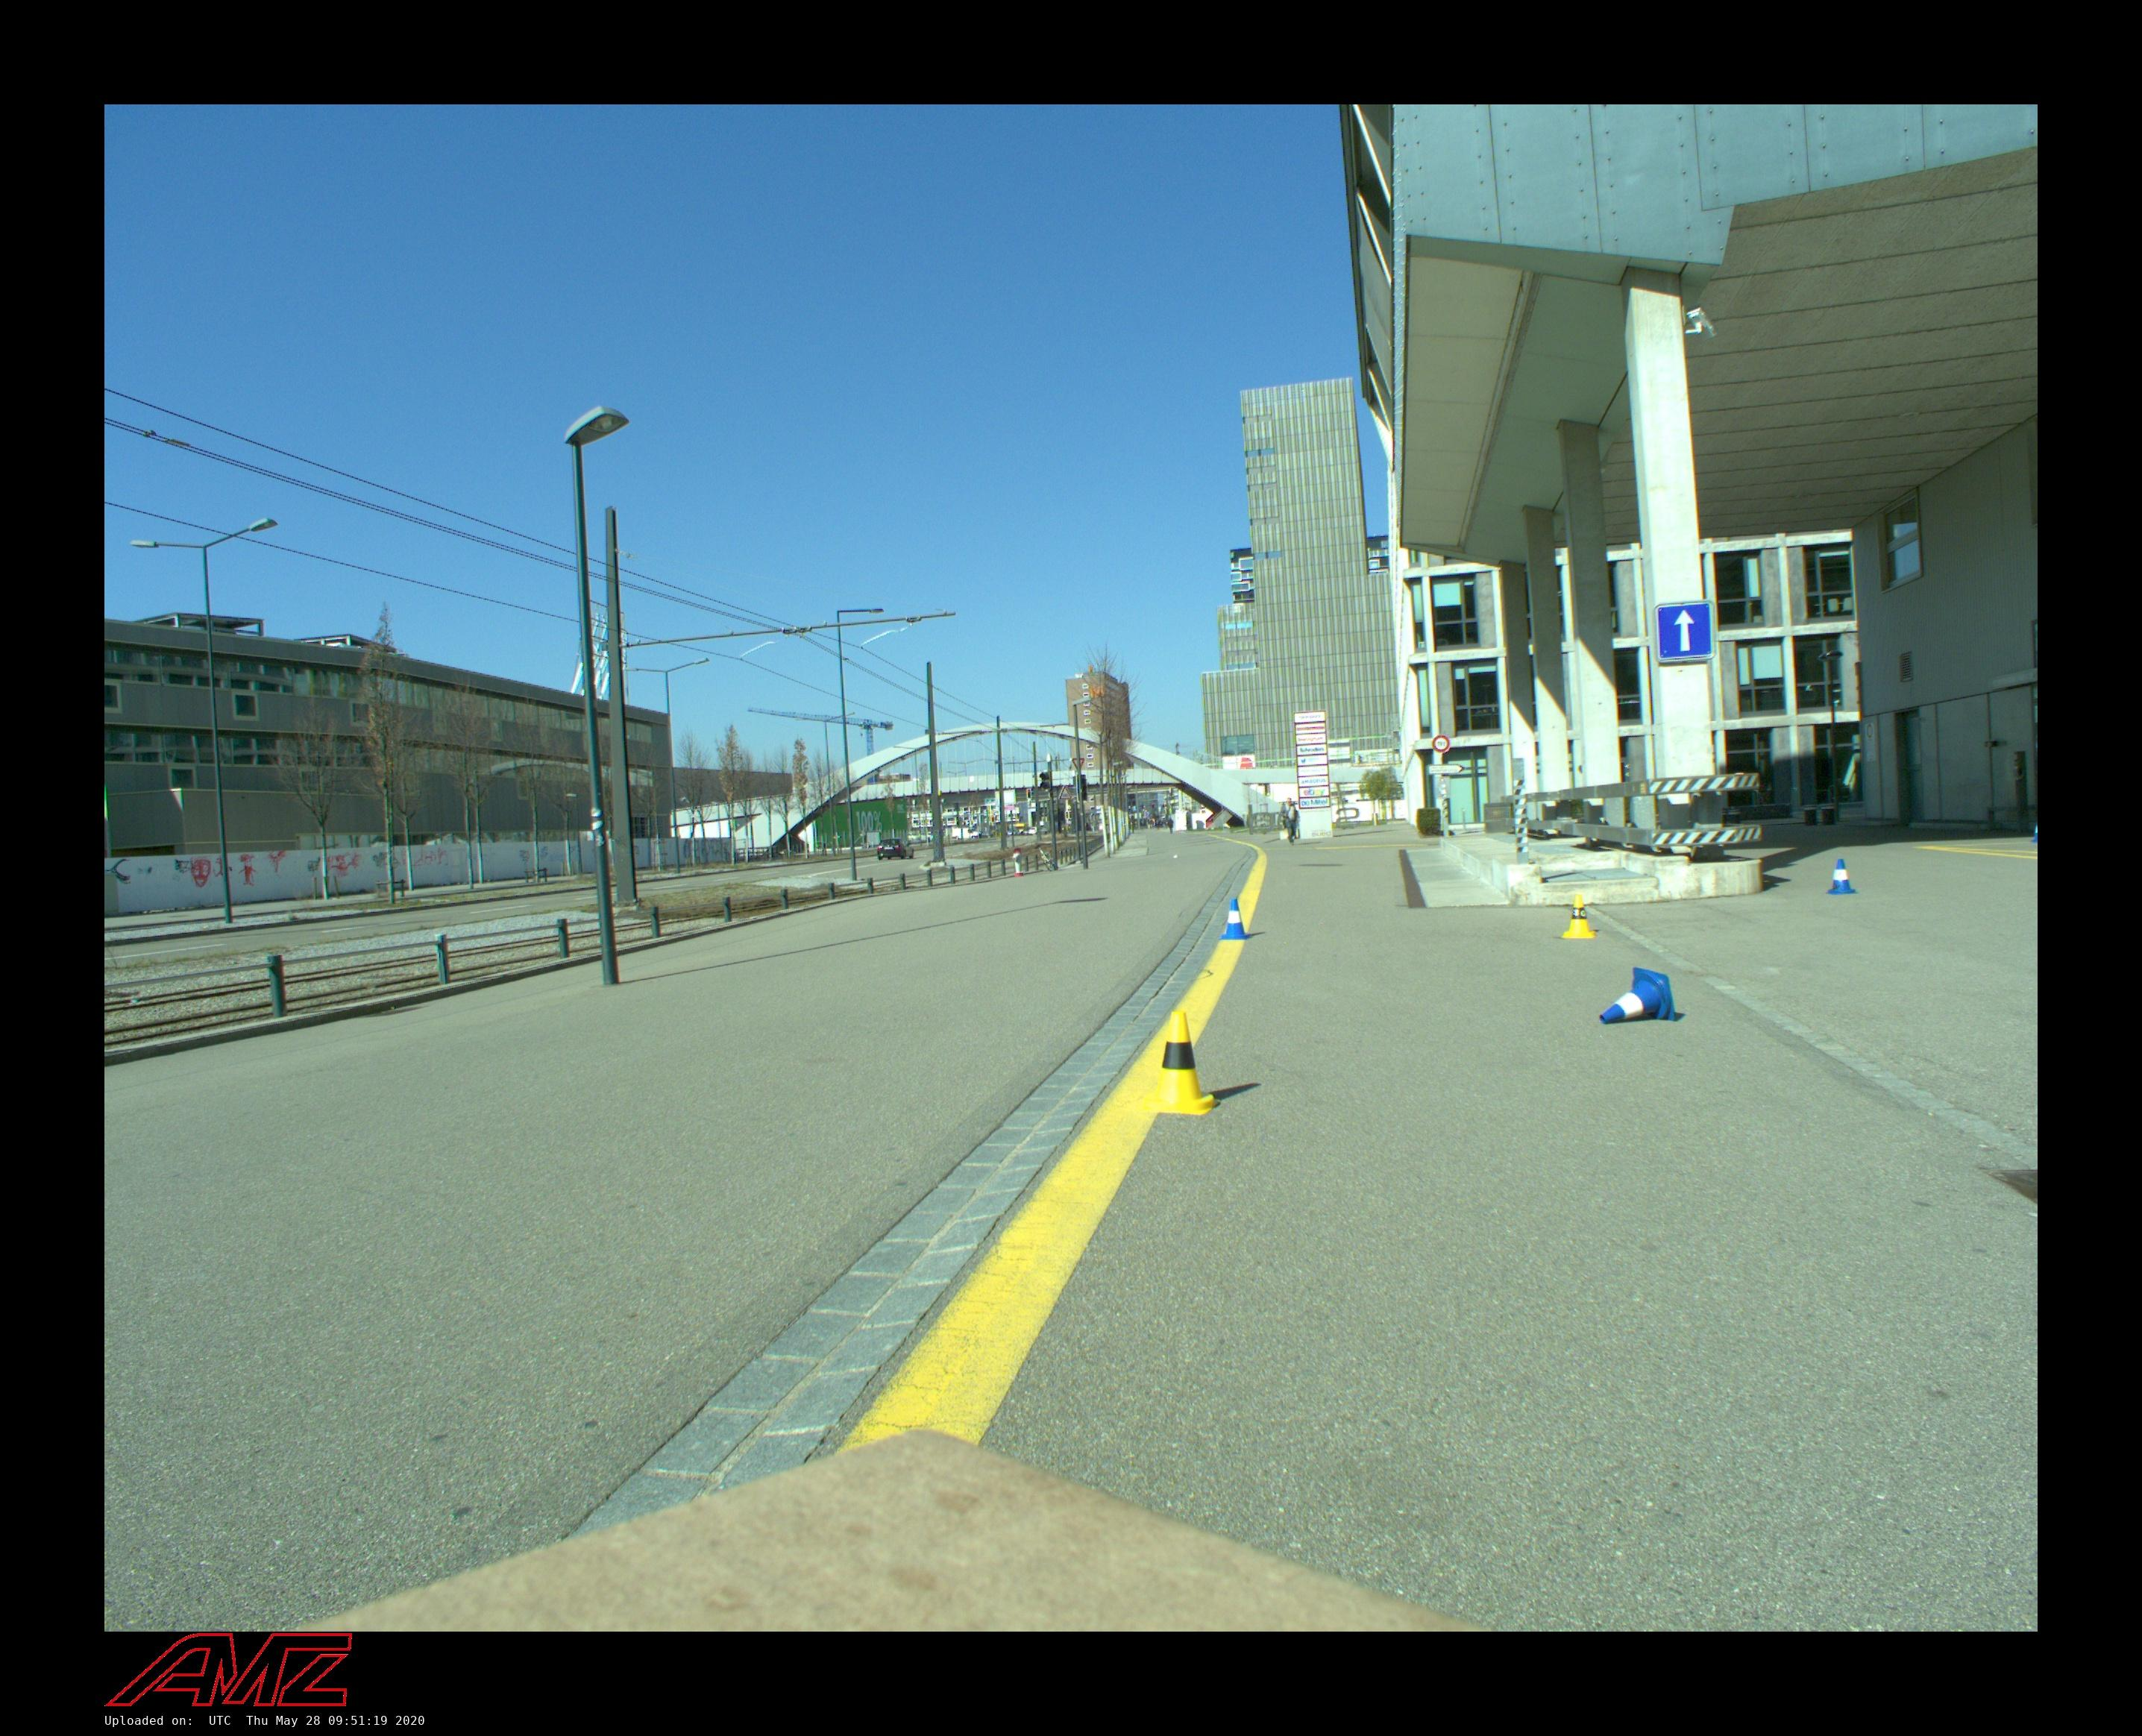blue_cone: (1600, 967, 1676, 1024), (1217, 898, 1253, 941), (1827, 859, 1859, 895)
yellow_cone: (1143, 1011, 1221, 1116), (1561, 895, 1596, 939)
